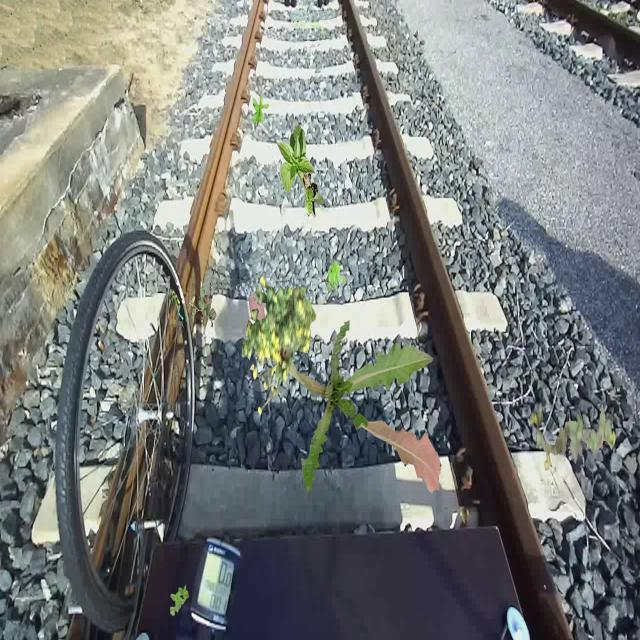Plant: (249, 292, 442, 494), (242, 276, 317, 416), (530, 402, 616, 470), (277, 124, 325, 219), (189, 286, 216, 327), (326, 261, 346, 294), (170, 584, 190, 616), (252, 95, 270, 127)
